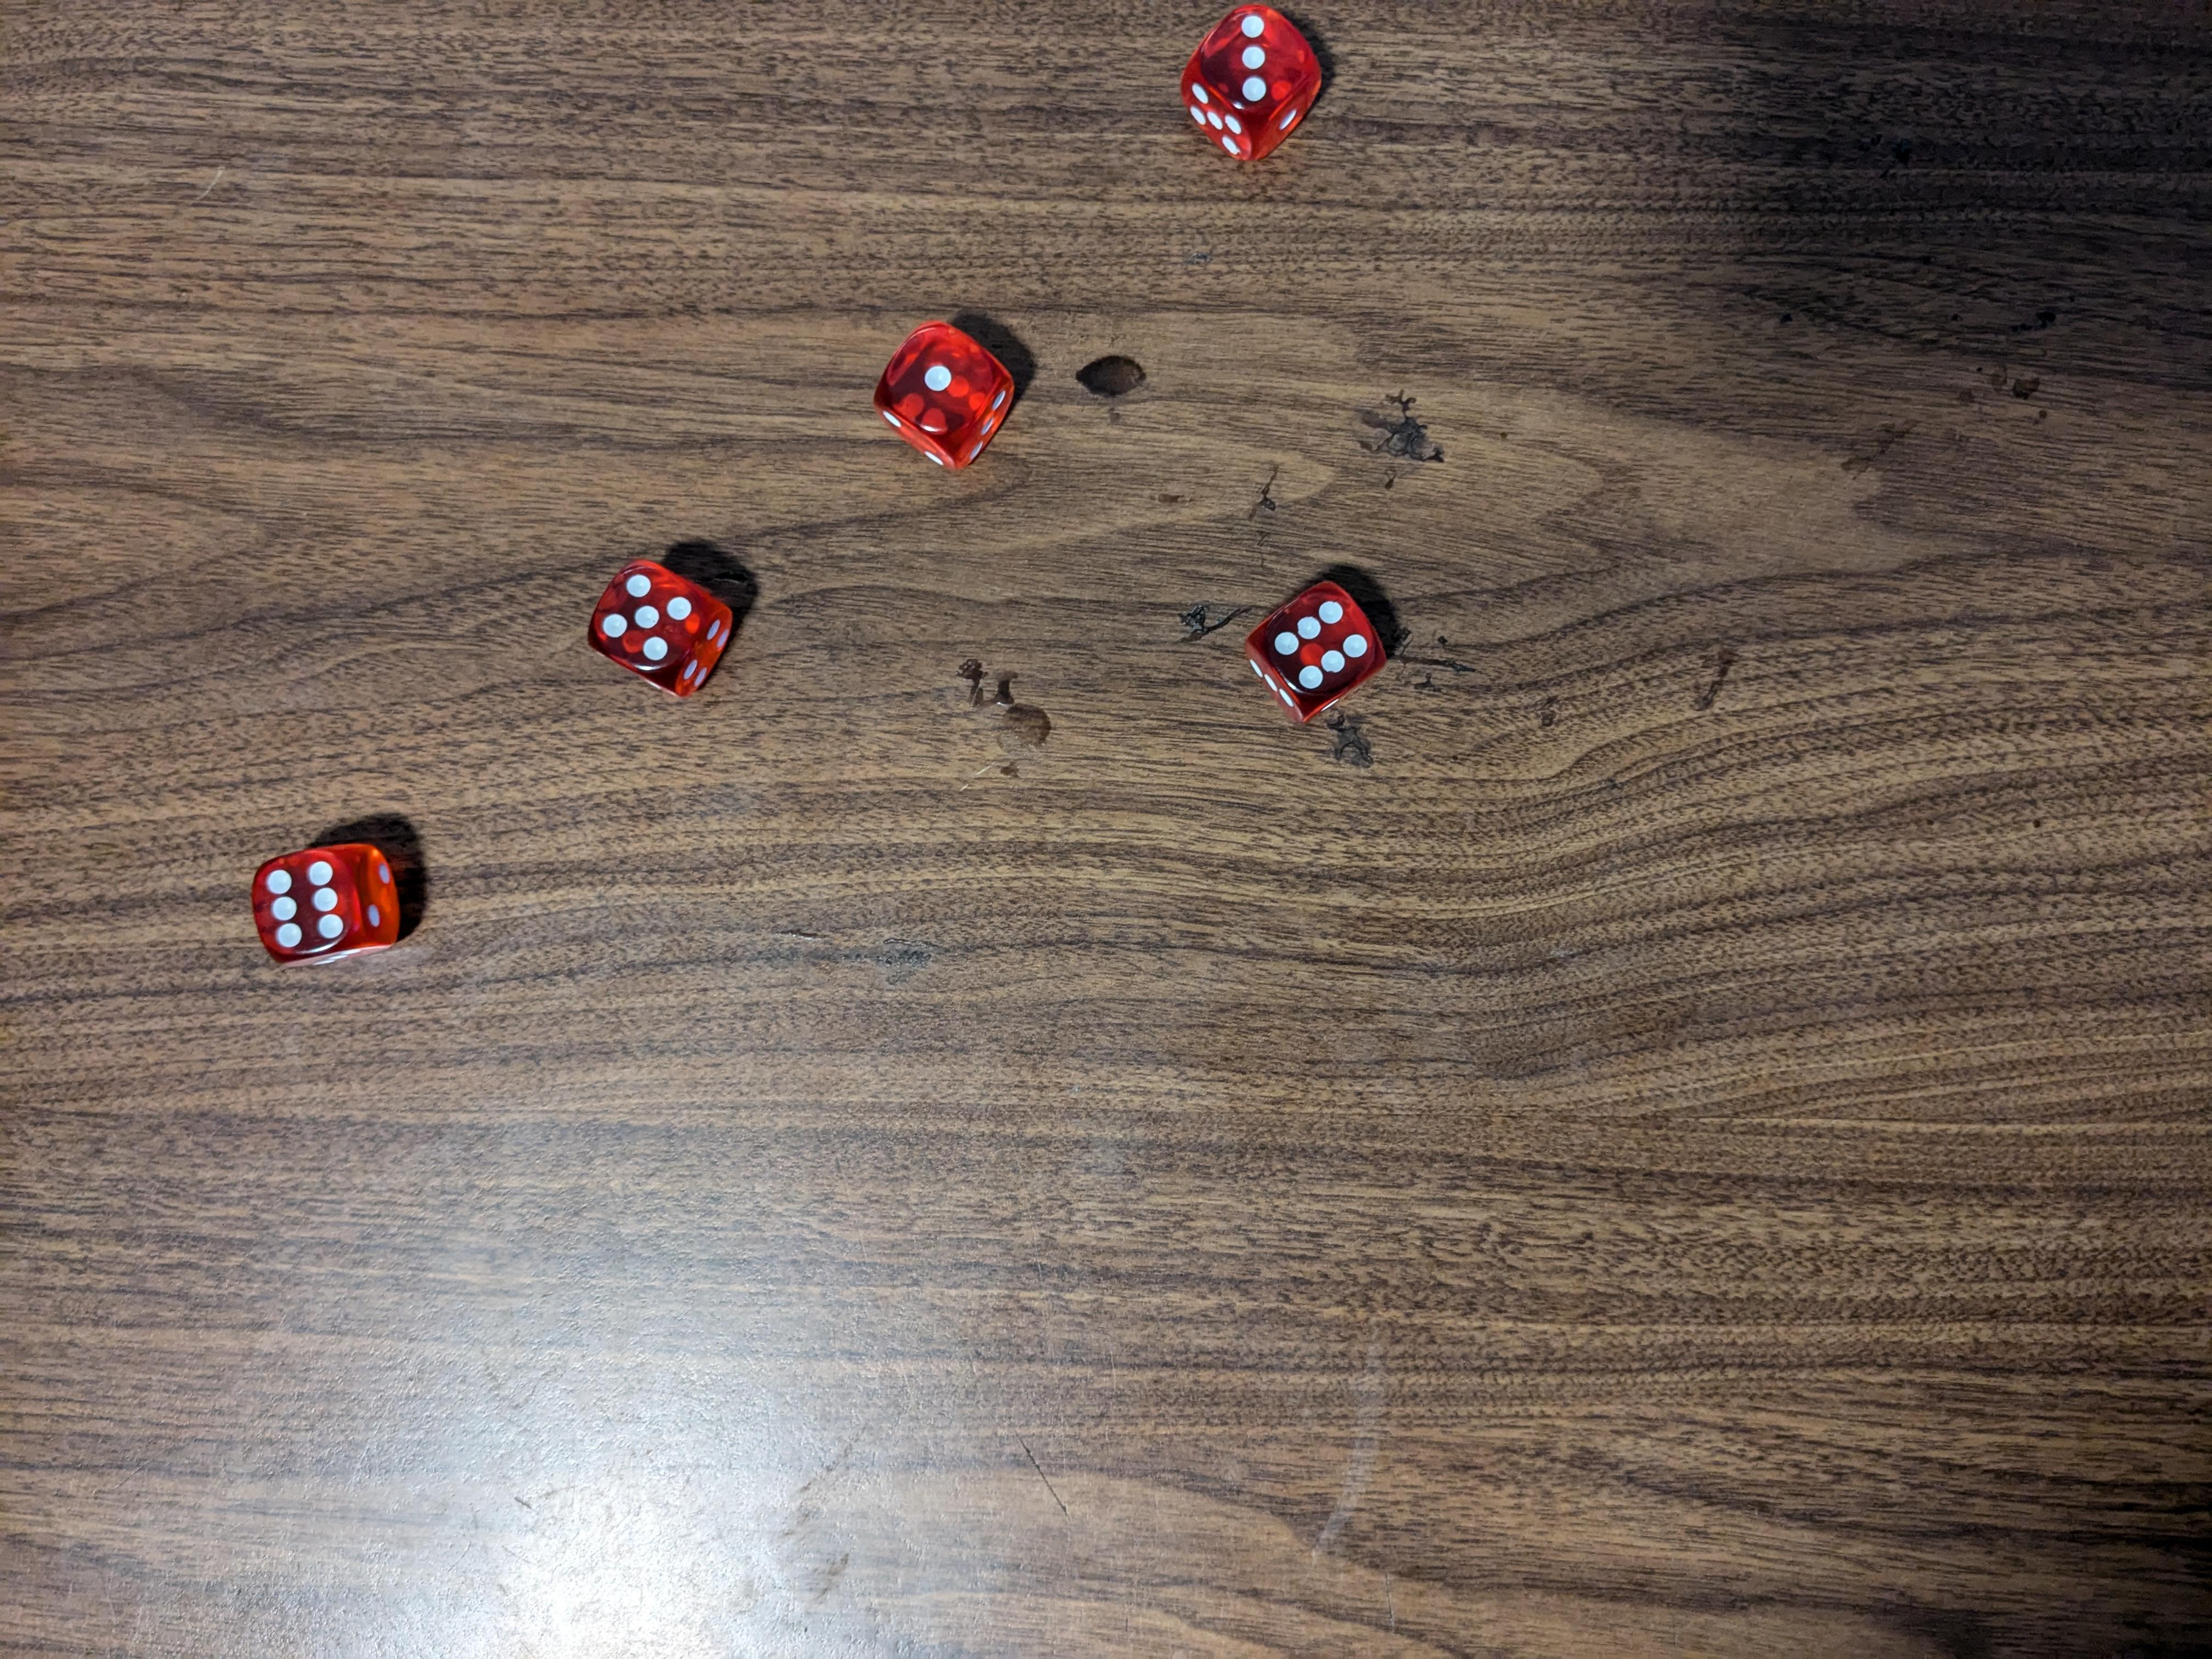five: (580, 554, 740, 709)
one: (873, 321, 1017, 477)
six: (1238, 575, 1395, 720), (246, 842, 411, 976)
three: (1172, 2, 1331, 171)
